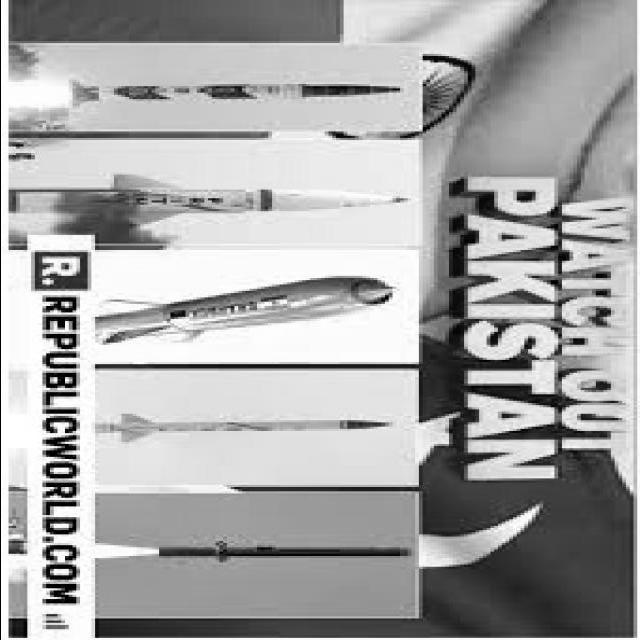Missile: (92, 274, 396, 357), (97, 169, 424, 227), (93, 401, 403, 445), (80, 80, 408, 107), (89, 412, 394, 441), (149, 537, 418, 569)
